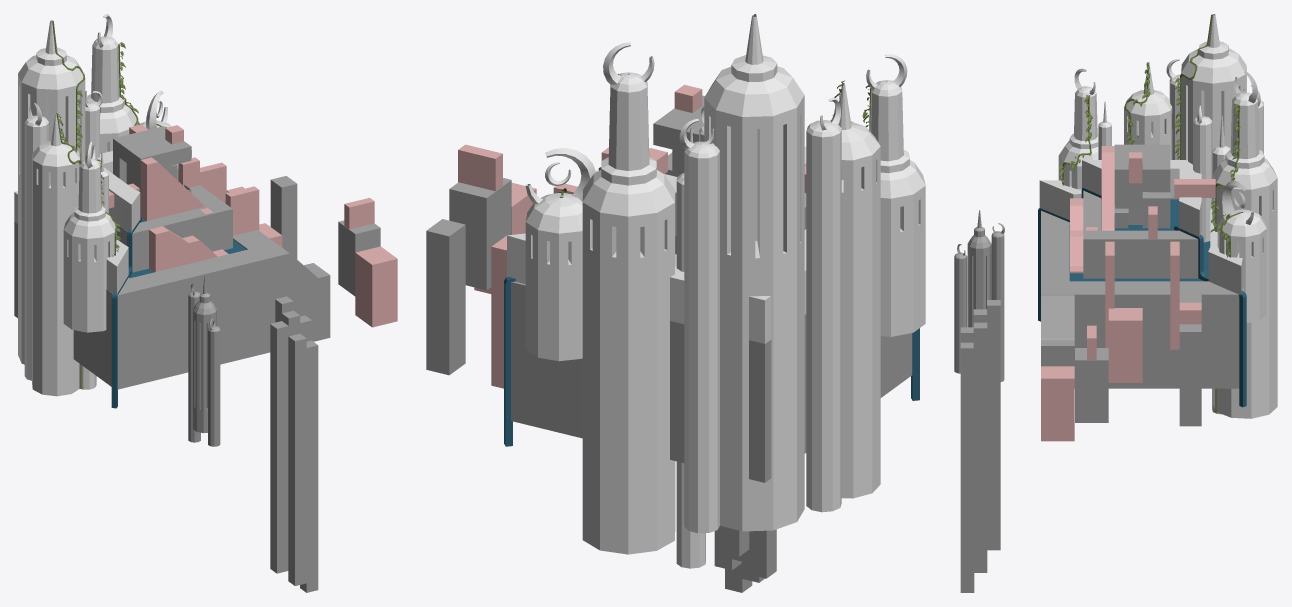
File: Level05_allAssetsV01.fbx
3 renders of one model, left to right at view 1: azimuth 30°, elevation 25°; view 2: azimuth 150°, elevation 25°; view 3: azimuth 270°, elevation 25°, orthographic. The views are drawn at different scales.
Parts seen in each view (by area): view 1: level05_CastleBig, level05_GroundBottomTiers, level05_farLeftOrbPlatform, level05_chargeAreaCastle, level05_movingPlatform01, level05_topTierCastle, level05_blockingInvisibleWall, level05_risingStair02, level05_risingStair01, level05_rightOrbPlatform, level05_rightChargeArea, level05_river (+4 smaller); view 2: level05_CastleBig, level05_GroundBottomTiers, level05_rightOrbPlatform, level05_rightChargeArea, level05_blockingInvisibleWall, level05_farLeftOrbPlatform, level05_constMovingBlock02, level05_topTierCastle, level05_river, level05_constMovingBlock01, level05_movingPlatform01, level05_droppingCube; view 3: level05_CastleBig, level05_GroundBottomTiers, level05_farLeftOrbPlatform, level05_chargeAreaCastle, level05_blockingInvisibleWall, level05_topTierCastle, level05_river, level05_movingPlatform02, level05_movingPlatform01, level05_rightChargeArea, level05_rightOrbPlatform, level05_risingStair02 (+6 smaller).
Part boxes in pixels (x1,y1,x2,y2): level05_CastleBig: (18,14,171,396); level05_GroundBottomTiers: (14,169,330,389); level05_farLeftOrbPlatform: (270,296,318,592); level05_chargeAreaCastle: (188,276,220,446); level05_movingPlatform01: (355,246,397,327); level05_topTierCastle: (113,126,191,216); level05_blockingInvisibleWall: (14,150,191,295); level05_risingStair02: (140,157,205,221); level05_risingStair01: (149,226,228,272); level05_rightOrbPlatform: (270,176,297,259); level05_rightChargeArea: (338,220,380,296); level05_river: (111,217,246,408); level05_CastleBig: (525,14,925,568); level05_GroundBottomTiers: (511,207,912,482); level05_rightOrbPlatform: (426,219,465,375); level05_rightChargeArea: (449,178,511,290); level05_blockingInvisibleWall: (507,146,806,343); level05_farLeftOrbPlatform: (714,525,776,592); level05_constMovingBlock02: (491,235,508,388); level05_topTierCastle: (653,95,704,176); level05_river: (504,277,919,446); level05_constMovingBlock01: (458,144,502,191); level05_movingPlatform01: (474,183,536,293); level05_droppingCube: (674,84,702,112); level05_CastleBig: (1058,14,1277,418); level05_GroundBottomTiers: (1041,190,1243,388); level05_farLeftOrbPlatform: (960,300,1000,592); level05_chargeAreaCastle: (954,210,1004,381); level05_blockingInvisibleWall: (1039,160,1242,295); level05_topTierCastle: (1114,144,1170,228); level05_river: (1038,188,1246,407); level05_movingPlatform02: (1108,308,1142,382); level05_movingPlatform01: (1041,366,1074,441); level05_rightChargeArea: (1075,348,1108,422); level05_rightOrbPlatform: (1179,324,1201,426); level05_risingStair02: (1101,146,1114,230).
Size of the model in its own units: 5515 by 8705 by 5002.
